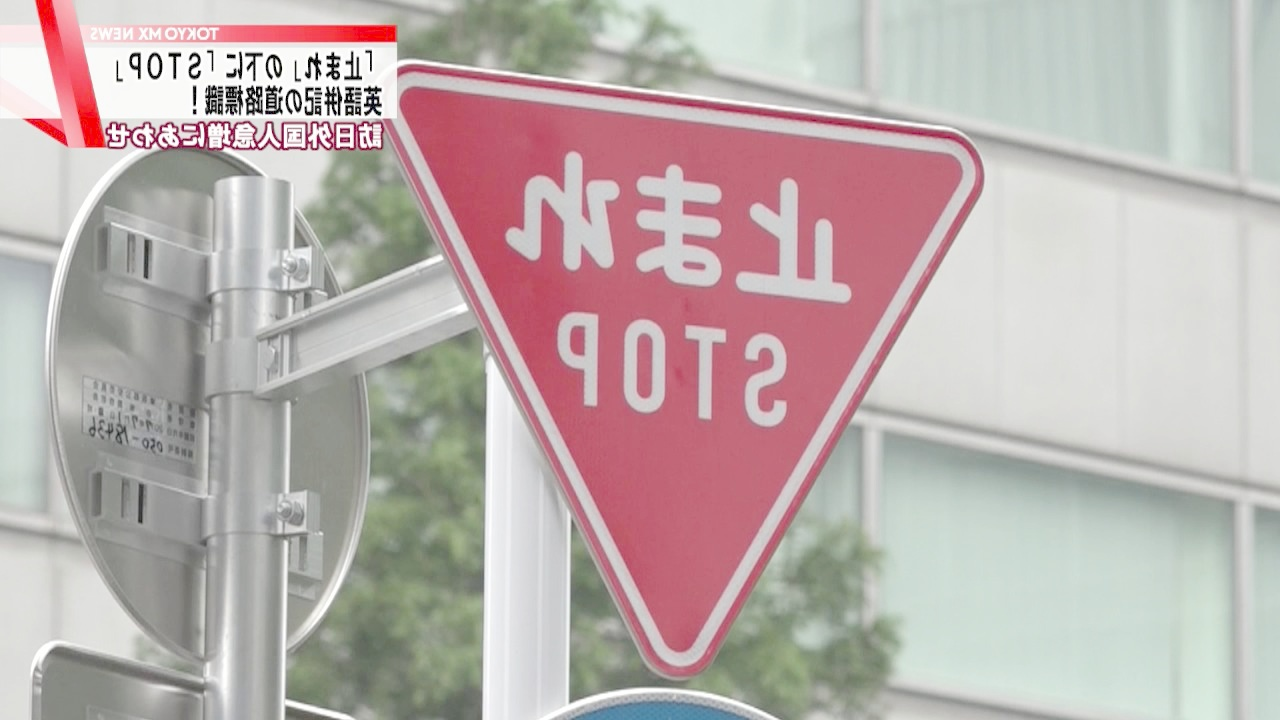Regulatory_sign_triangle: (358, 35, 978, 687)
